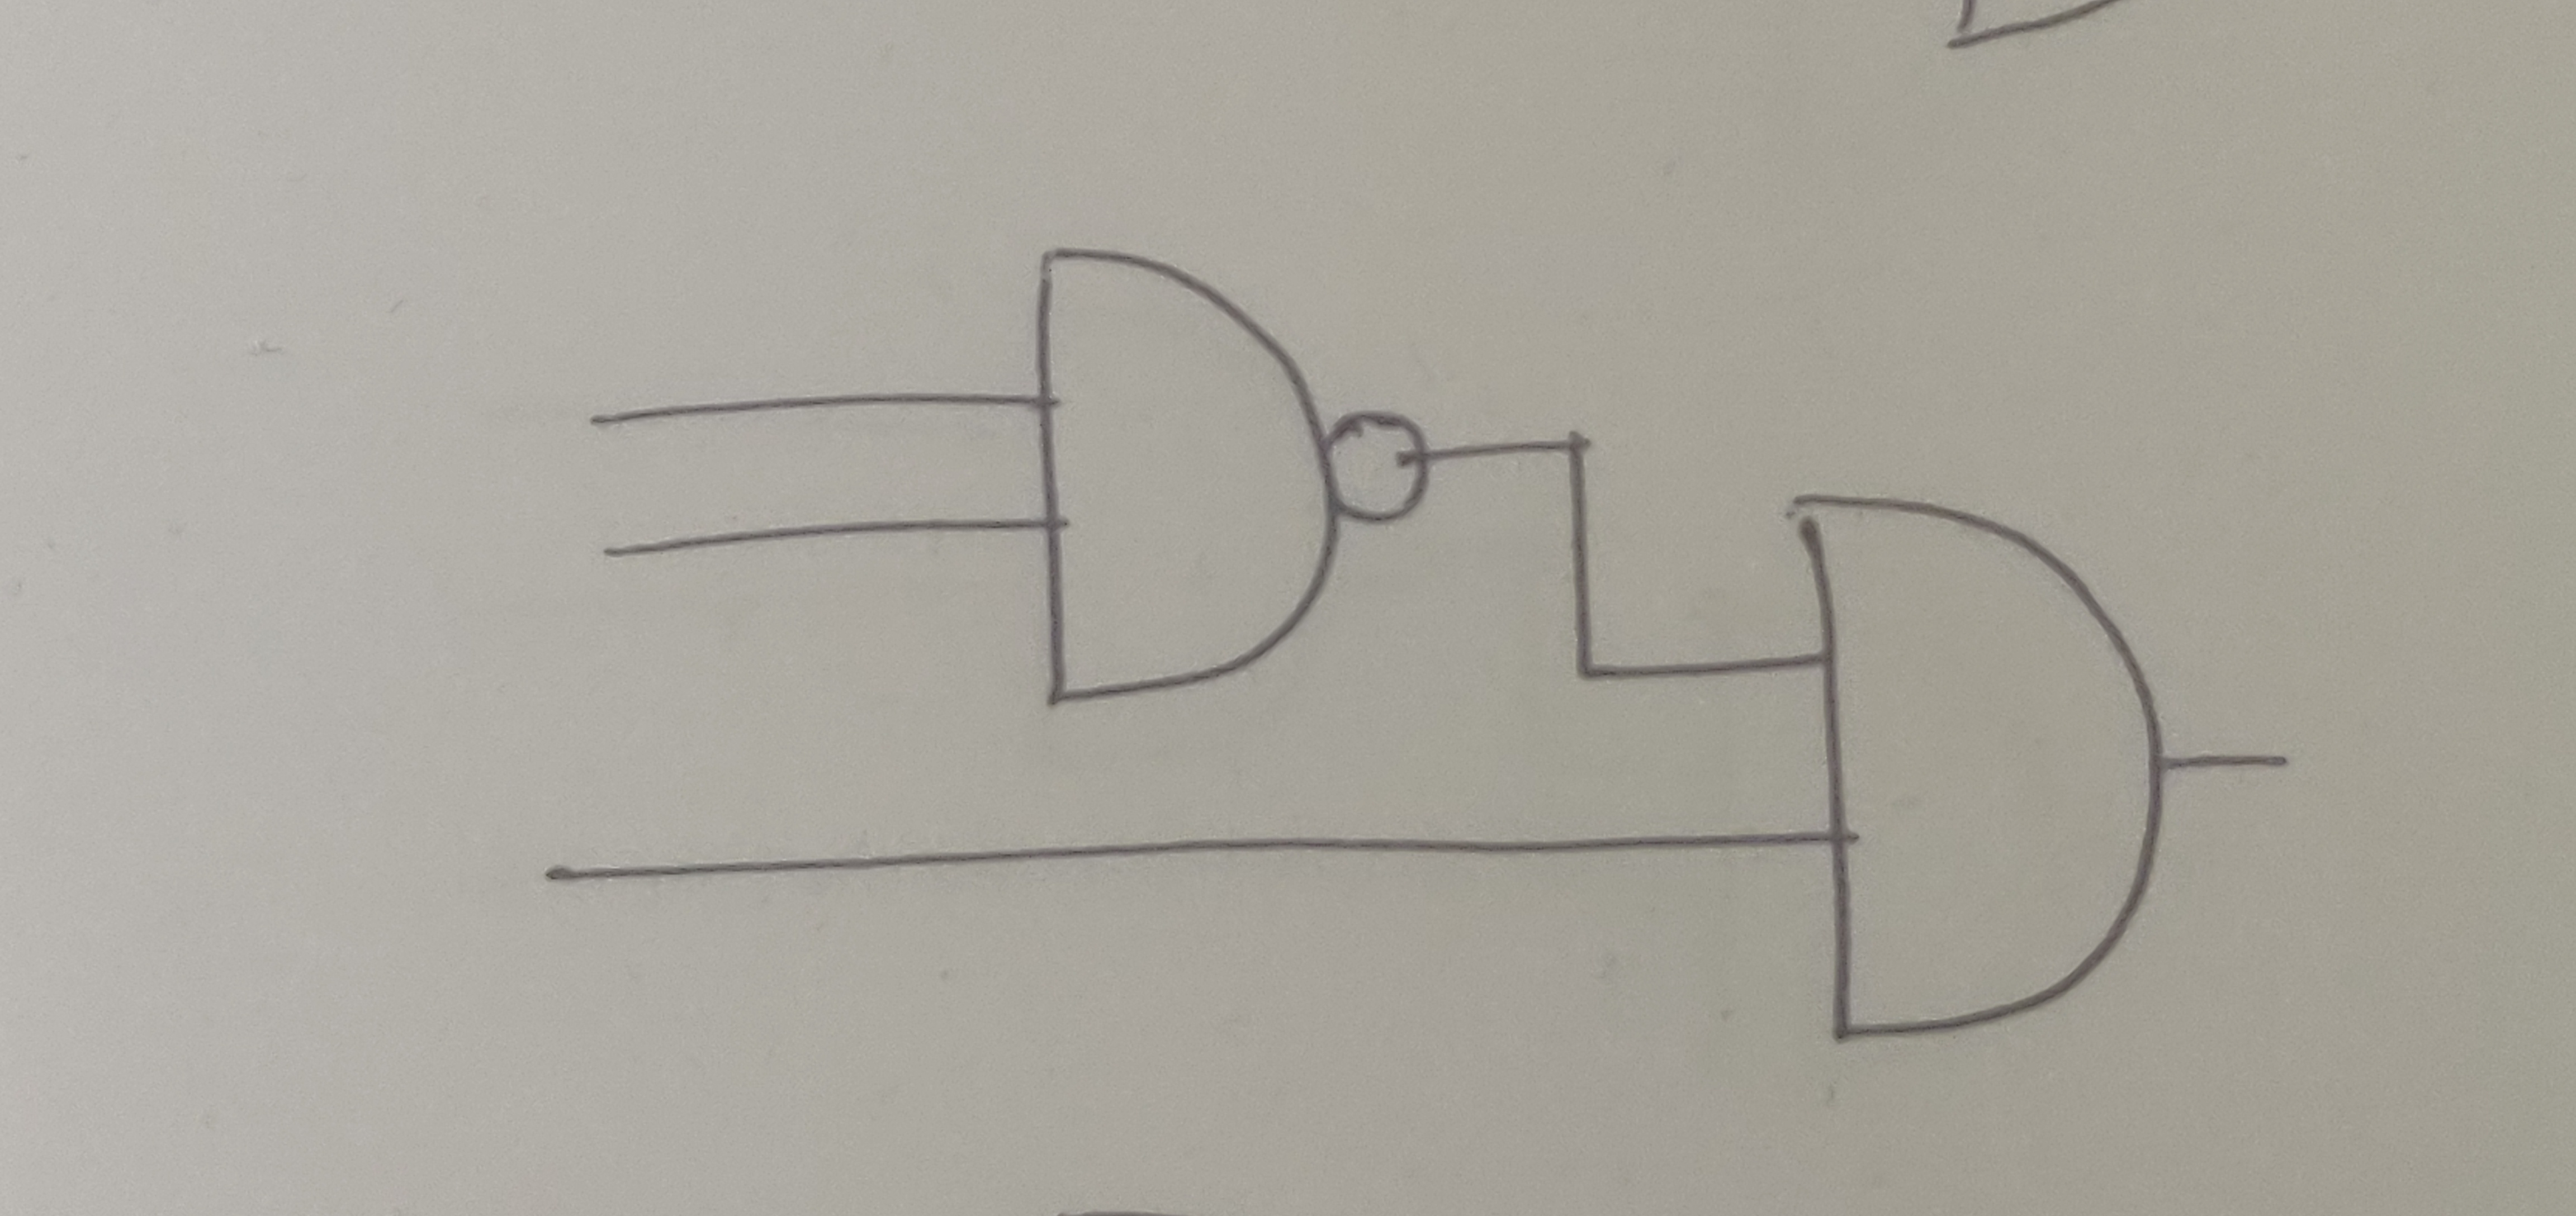and: (1791, 490, 2175, 1045), (1035, 240, 1347, 710)
not: (1324, 401, 1436, 539)
